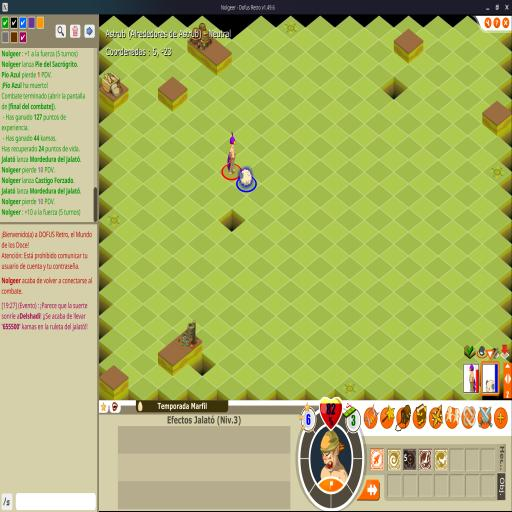Enemigos: (238, 166, 254, 187)
Personaje: (227, 132, 237, 176)
